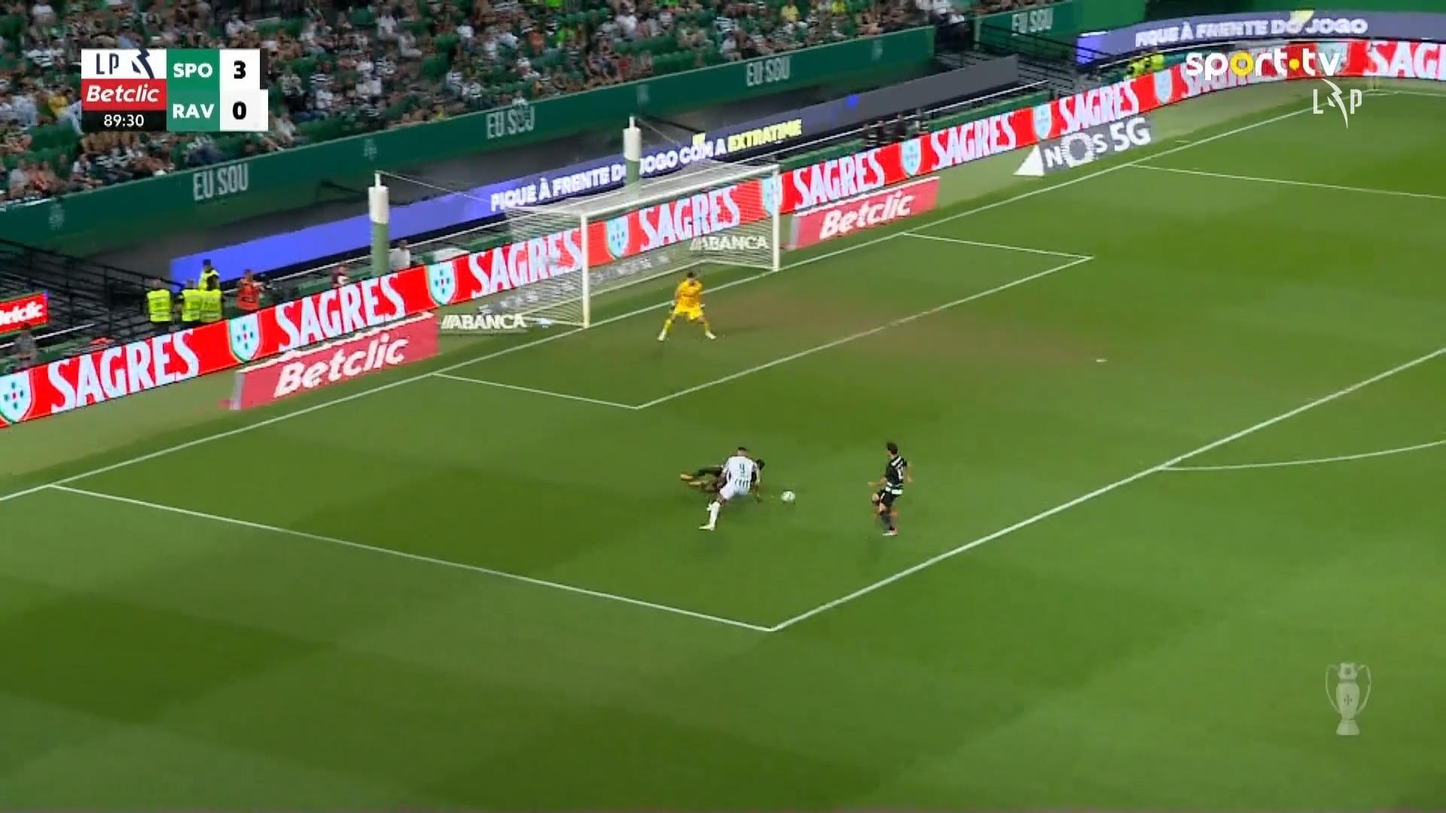ball: (780, 489, 795, 504)
goalkeeper: (655, 268, 718, 342)
player: (702, 445, 765, 535), (867, 440, 913, 537), (676, 456, 771, 499)
